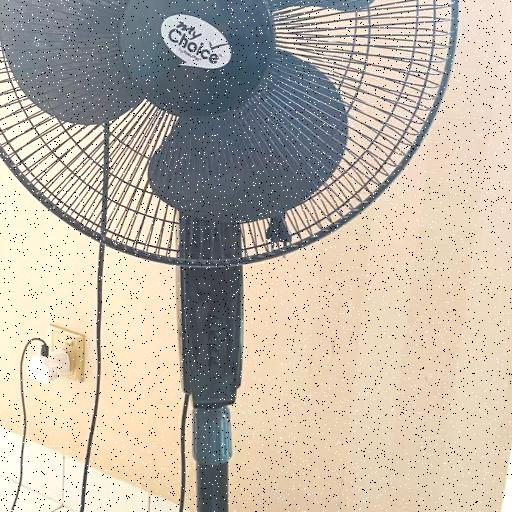Fan: (0, 0, 459, 269)
